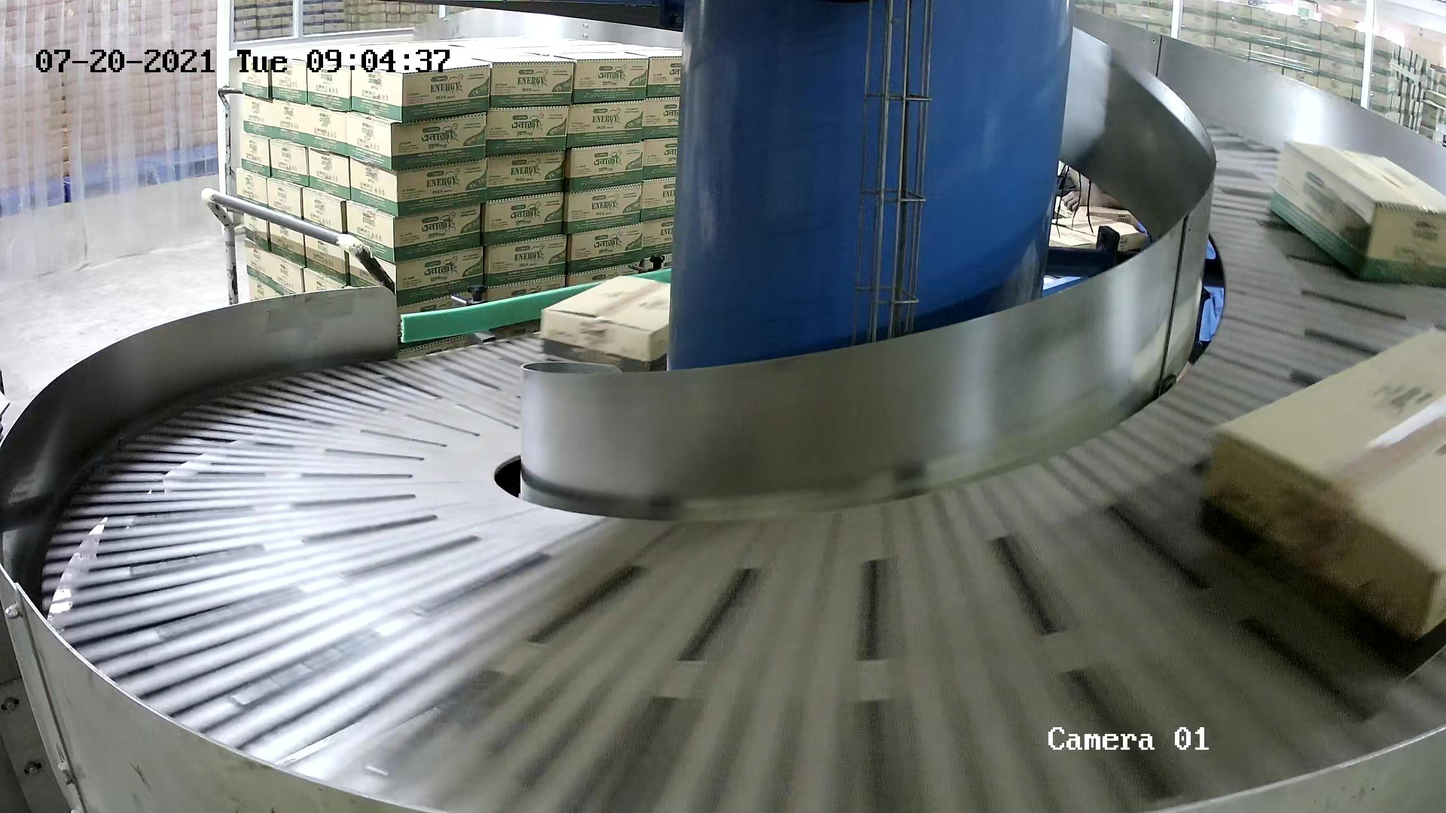Box: (1201, 325, 1446, 683), (1267, 138, 1446, 288), (539, 274, 672, 373)
